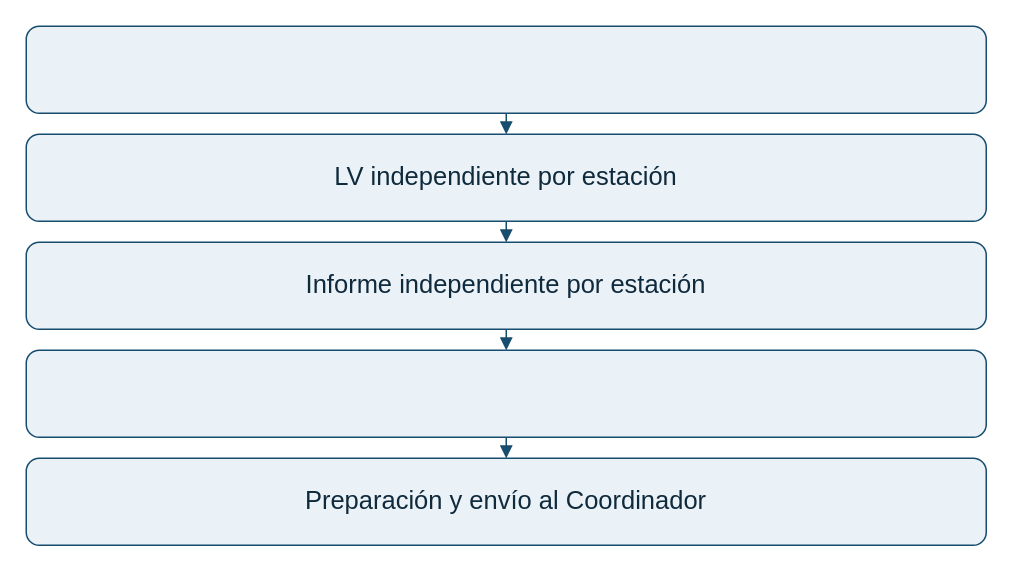
Some shapes in this 1013 by 572 pixel diagram are drawn without their labels. The box of each missing label's shape, as (x1, y1, x2, y2) in pixels:
Designación y expediente habilitado: (25, 25, 986, 113)
NC o resultado satisfactorio: (25, 349, 986, 437)
